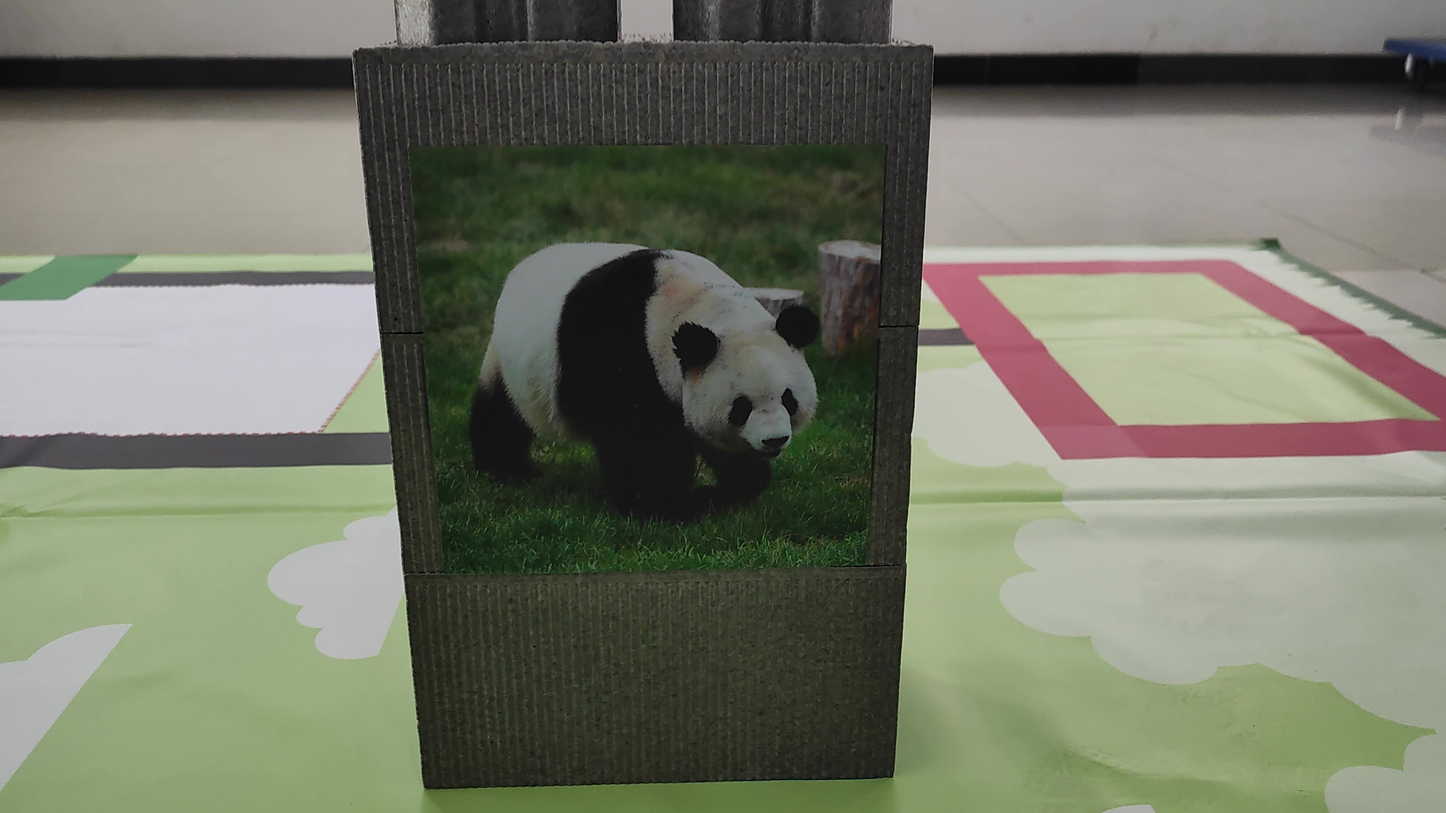panda: (436, 193, 830, 527)
